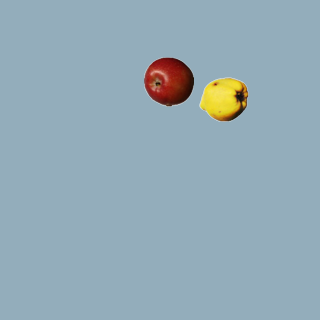Apple Braeburn: (143, 56, 193, 106)
Quince: (198, 74, 248, 124)
